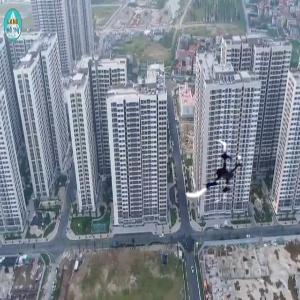drone: (187, 139, 254, 206)
